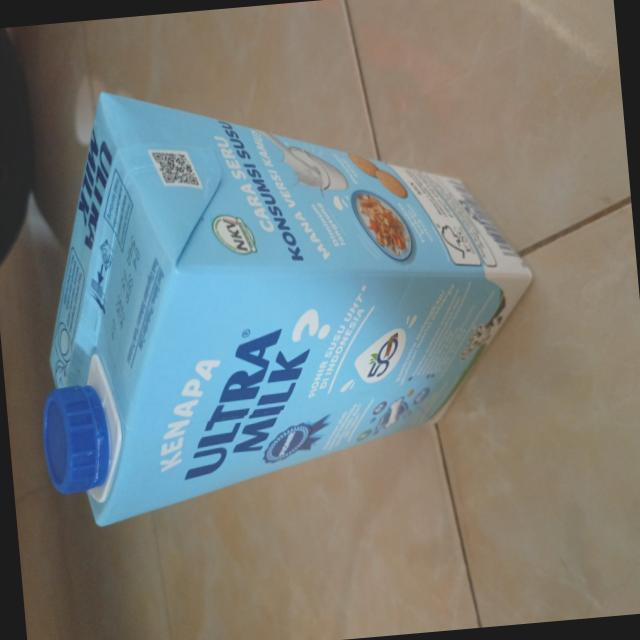ultramilk-full-cream: (4, 49, 557, 534)
